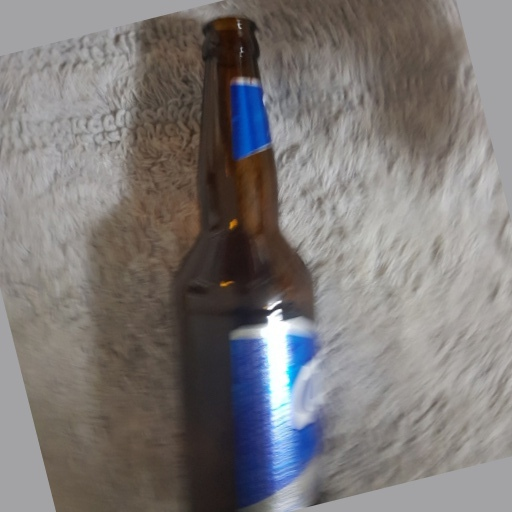Glass_1: (178, 10, 317, 512)
